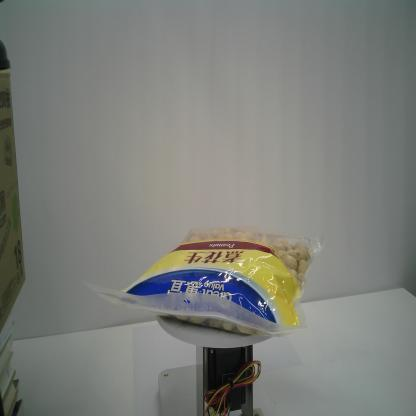Dried Food: (77, 224, 325, 338)
